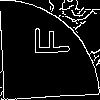F: (25, 25, 71, 57)
